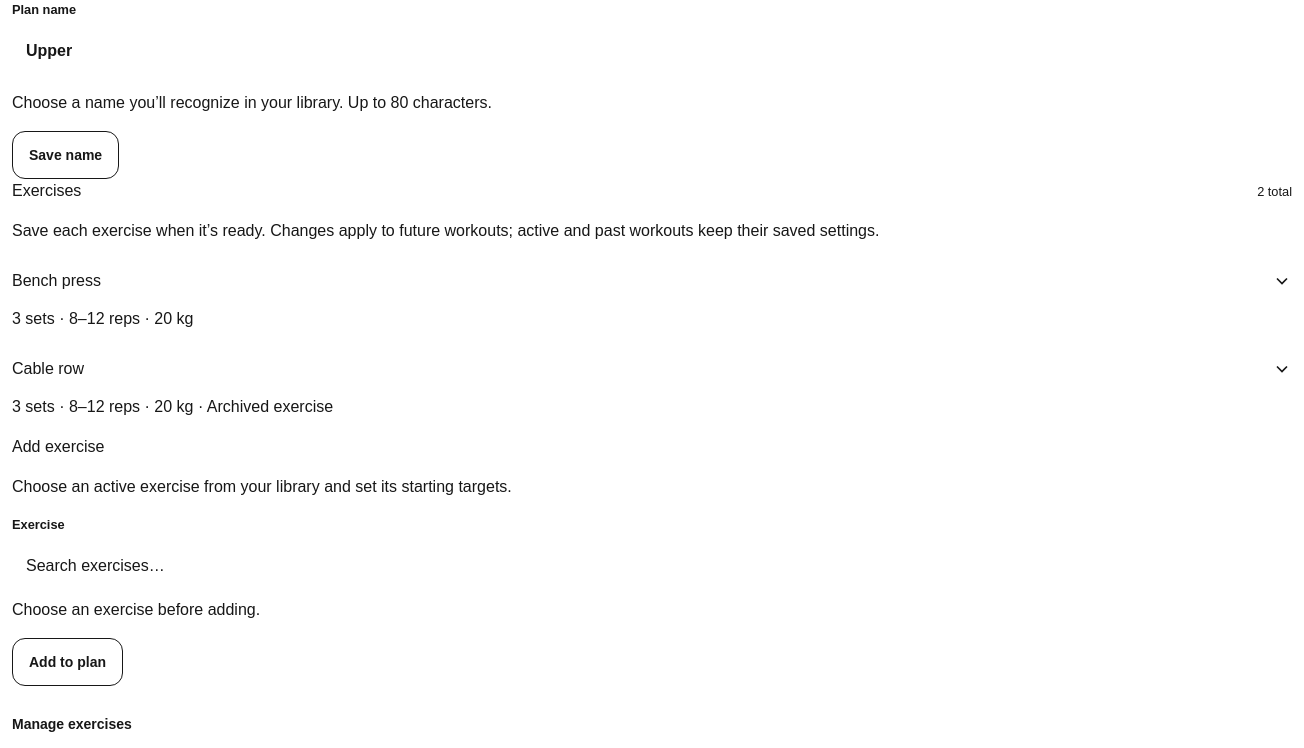
Test case: retains invalid and blank values after failed saves and supports discard
This screenshot has width=1304, height=748.
Click the button "Bench press" at (56, 281), box x1=12 y1=259 x2=1292 y2=303
(page scrolled)
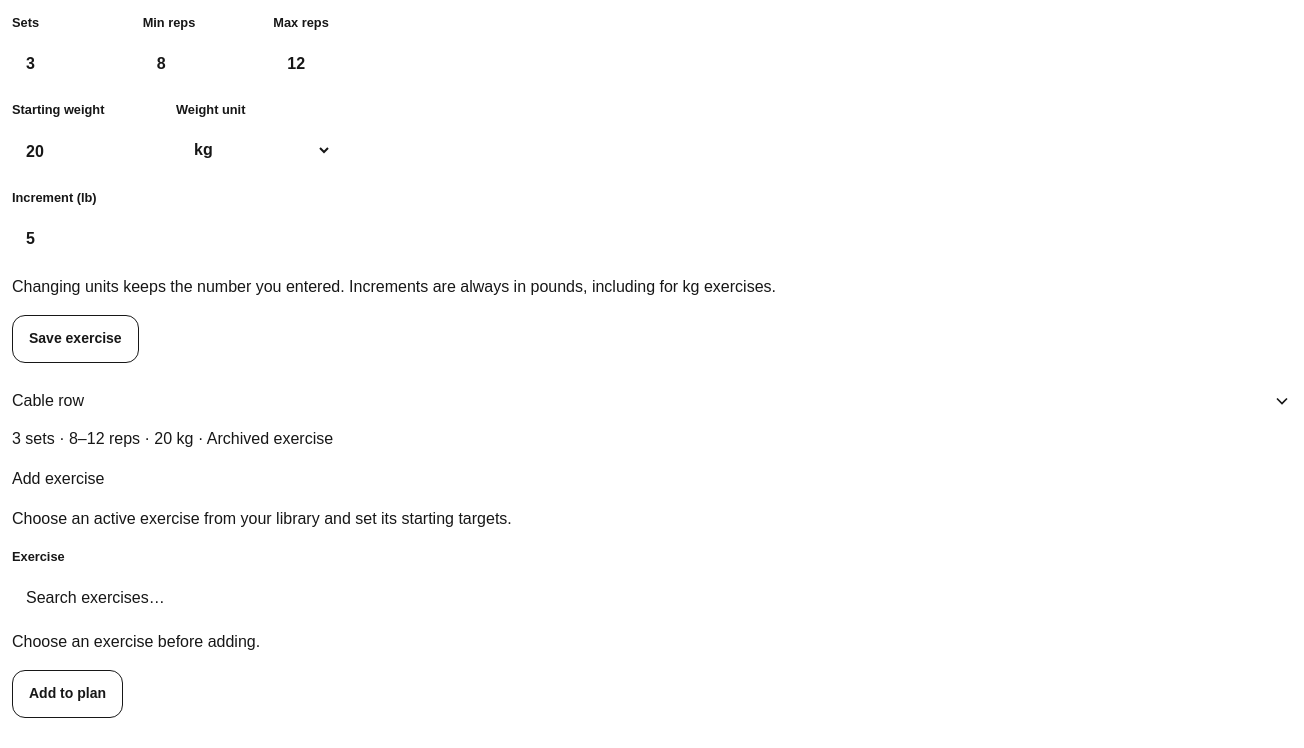
Click the button "Cable row" at (48, 400), box x1=12 y1=379 x2=1292 y2=423
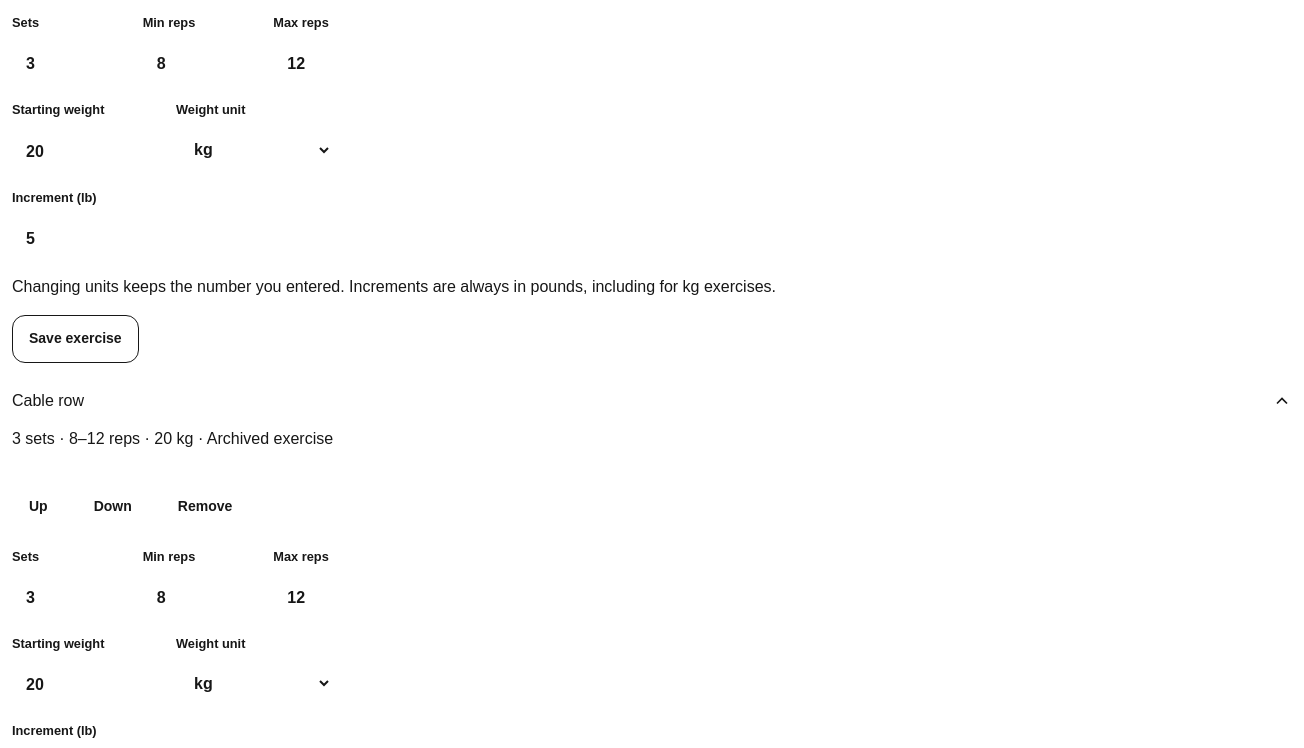
Clear the 1st number field labelled "Sets" at (73, 64), box x1=12 y1=40 x2=135 y2=88
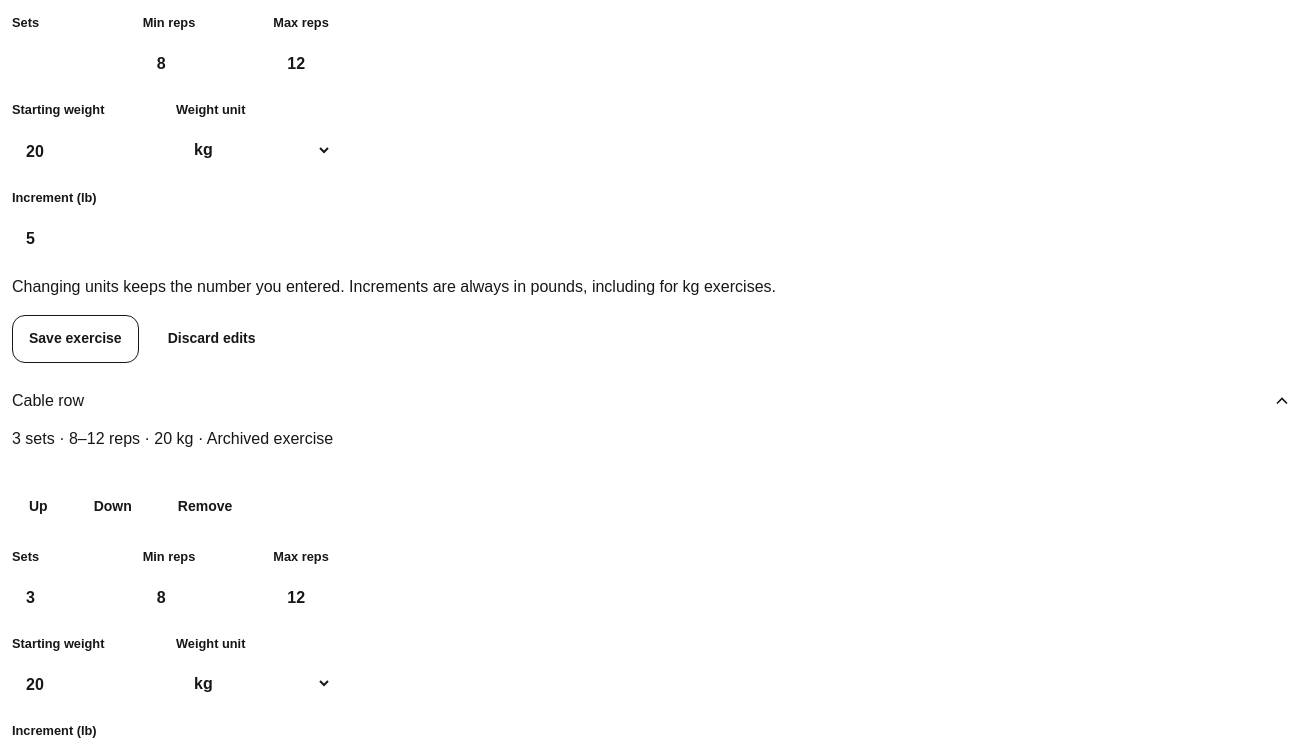
Submit the form named "Configure Bench press", box x1=11 y1=15 x2=776 y2=363
Click the button "Discard edits" at (212, 339), box x1=151 y1=315 x2=272 y2=363
(page scrolled)
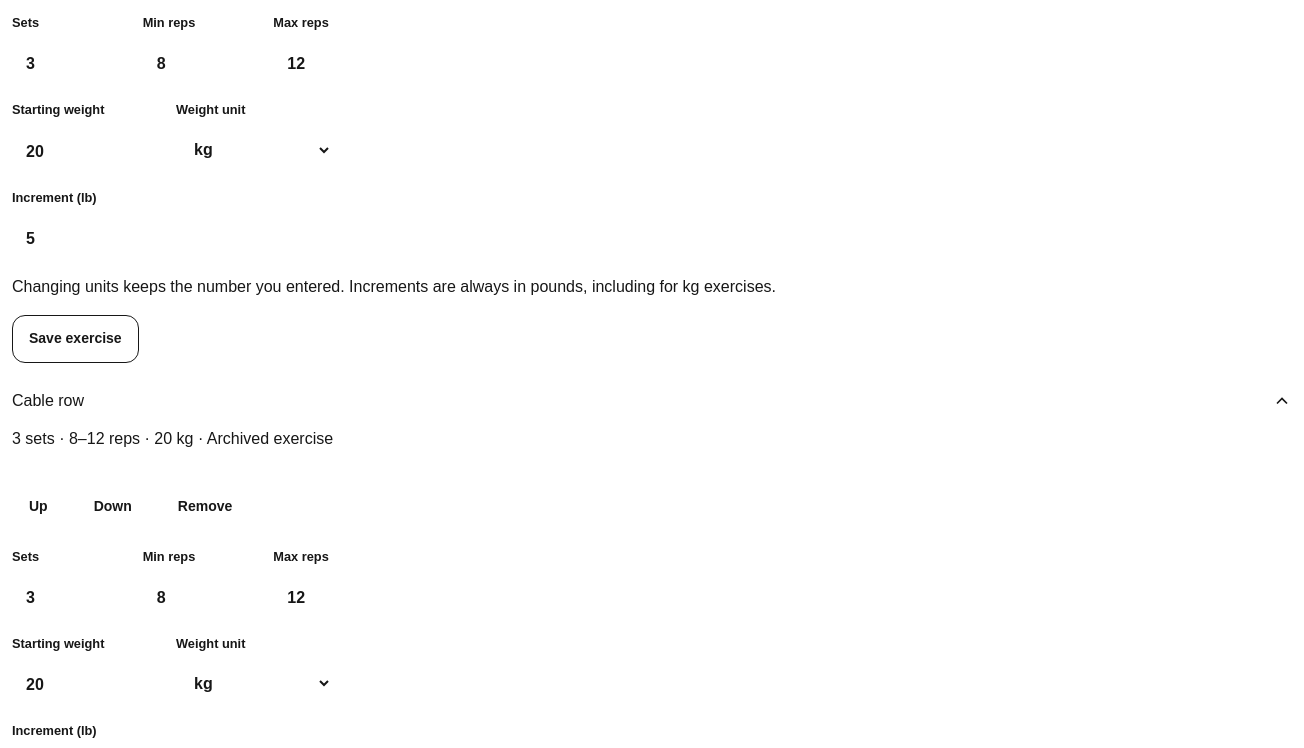
Expected: the 1st number field labelled "Sets" holds "3", x1=12 y1=40 x2=135 y2=88
